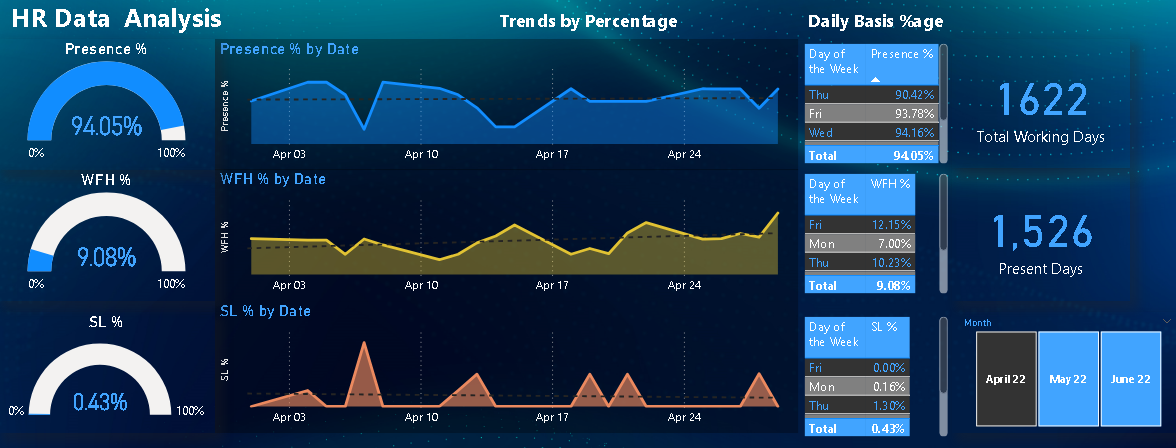

Layout of this report page (visuals, bound fields, positions):
{"tool":"powerbi","page":{"name":"Duplicate of Page 1","canvas":[1280,720],"ordinal":0},"visuals":[{"type":"image","box":[1.5,0,1278.8,719.7],"z":0},{"type":"slicer","fields":{"Values":["Final Data.Month"]},"box":[1030.4,342,249.3,130.4],"z":1000},{"type":"pivotTable","fields":{"Rows":["Final Data.Name"],"Values":["Measure Table.Presence %","Measure Table.WFH %","Measure Table.SL %"]},"box":[463.8,520.3,350.7,188.4],"z":2000},{"type":"textbox","box":[0,0,263.5,49],"z":3000},{"type":"pivotTable","fields":{"Rows":["Final Data.Name"],"Values":["Min(Final Data.Value)"],"Columns":["Final Data.Date.Variation.Date Hierarchy.Day"]},"box":[4.3,520.3,455.1,188.4],"z":4000},{"type":"areaChart","fields":{"Category":["Final Data.Date"],"Y":["Measure Table.Presence %"]},"box":[237.9,48.5,627.3,140.9],"z":5000},{"type":"areaChart","fields":{"Category":["Final Data.Date"],"Y":["Measure Table.WFH %"]},"box":[237.9,187.9,627.3,142.4],"z":6000},{"type":"areaChart","fields":{"Category":["Final Data.Date"],"Y":["Measure Table.SL %"]},"box":[237.9,330.3,627.3,142.4],"z":7000},{"type":"tableEx","fields":{"Values":["Final Data.Day of the Week","Measure Table.Presence %"]},"box":[865.2,48.5,165.2,139.4],"z":8000},{"type":"card","fields":{"Values":["Measure Table.Present Days"]},"box":[1030.3,187.9,190.9,142.4],"z":9000},{"type":"card","fields":{"Values":["Measure Table.Total Working Days"]},"box":[1030.3,48.5,190.9,139.4],"z":10000},{"type":"gauge","fields":{"Y":["Measure Table.Presence %"]},"box":[4.5,48.5,233.3,140.9],"z":11000},{"type":"gauge","fields":{"Y":["Measure Table.WFH %"]},"box":[4.5,189.4,233.3,140.9],"z":12000},{"type":"gauge","fields":{"Y":["Measure Table.SL %"]},"box":[4.5,342.4,233.3,130.3],"z":13000},{"type":"tableEx","fields":{"Values":["Final Data.Day of the Week","Measure Table.WFH %"]},"box":[865.2,187.9,165.2,139.4],"z":14000},{"type":"tableEx","fields":{"Values":["Final Data.Day of the Week","Measure Table.SL %"]},"box":[865.2,342.4,165.2,139.4],"z":15000},{"type":"textbox","box":[509.1,10.6,260.6,37.9],"z":16000},{"type":"textbox","box":[865.2,10.6,165.2,37.9],"z":17000},{"type":"textbox","box":[4.5,481.8,395.5,37.9],"z":18000},{"type":"textbox","box":[463.6,481.8,340.9,37.9],"z":19000},{"type":"textbox","box":[842,520.3,376.8,188.4],"z":19001},{"type":"textbox","box":[859.4,481.2,342,39.1],"z":19002}]}

Visuals, with their boxes on the page's 1280x720 design canvas (x1, y1, x2, y2). These are canvas units, not pixel positions in the 1176x448 screenshot, which may show the page scaled, cropped or inside an application window:
image: <box>2,0,1280,720</box>
slicer - Final Data.Month: <box>1030,342,1280,472</box>
pivotTable - Final Data.Name x Measure Table.Presence %: <box>464,520,814,709</box>
textbox: <box>0,0,264,49</box>
pivotTable - Final Data.Name x Min(Final Data.Value): <box>4,520,459,709</box>
areaChart - Final Data.Date x Measure Table.Presence %: <box>238,48,865,189</box>
areaChart - Final Data.Date x Measure Table.WFH %: <box>238,188,865,330</box>
areaChart - Final Data.Date x Measure Table.SL %: <box>238,330,865,473</box>
tableEx - Final Data.Day of the Week x Measure Table.Presence %: <box>865,48,1030,188</box>
card - Measure Table.Present Days: <box>1030,188,1221,330</box>
card - Measure Table.Total Working Days: <box>1030,48,1221,188</box>
gauge - Measure Table.Presence %: <box>4,48,238,189</box>
gauge - Measure Table.WFH %: <box>4,189,238,330</box>
gauge - Measure Table.SL %: <box>4,342,238,473</box>
tableEx - Final Data.Day of the Week x Measure Table.WFH %: <box>865,188,1030,327</box>
tableEx - Final Data.Day of the Week x Measure Table.SL %: <box>865,342,1030,482</box>
textbox: <box>509,11,770,48</box>
textbox: <box>865,11,1030,48</box>
textbox: <box>4,482,400,520</box>
textbox: <box>464,482,804,520</box>
textbox: <box>842,520,1219,709</box>
textbox: <box>859,481,1201,520</box>
